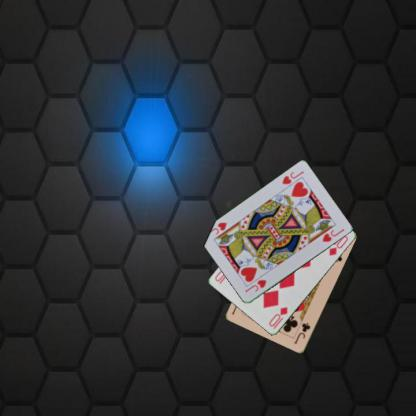10d: (266, 304, 289, 330)
Jc: (292, 320, 311, 346)
Jh: (242, 277, 268, 294), (279, 169, 305, 186)
